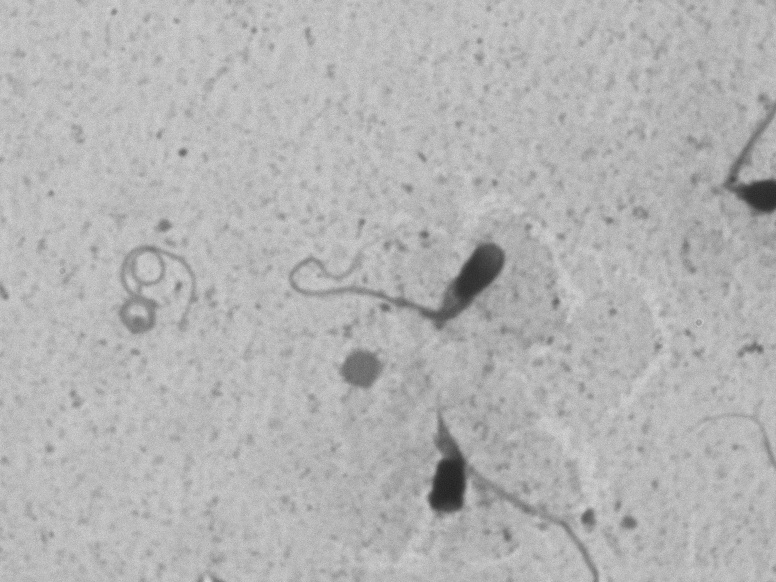Abnormal: (234, 183, 523, 343), (376, 391, 636, 564)
